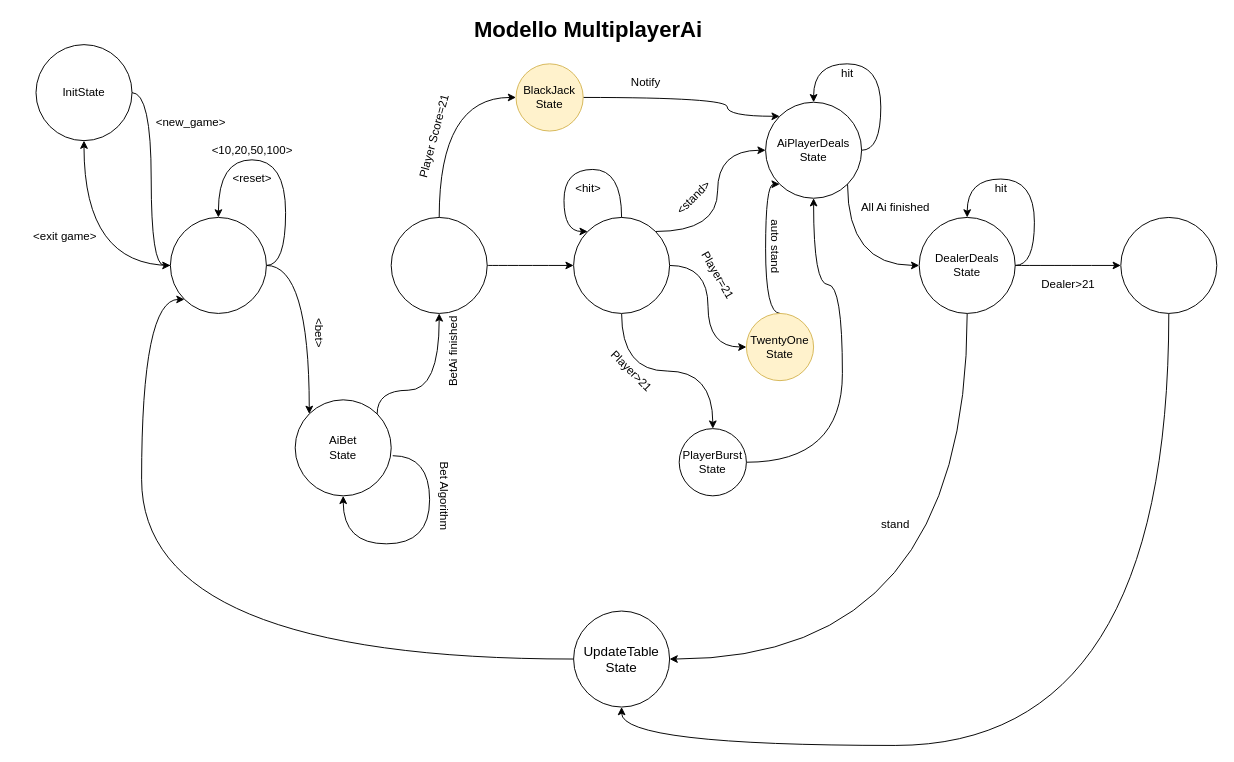
This 1234x762 diagram has some shape labels left out. Each missing label, with the centre of its shape:
"Bet State" goes at pixel 217 264.
"DealerBurst State" goes at pixel 1168 264.
"PlayerDeals State" goes at pixel 621 264.
"SetupTable State" goes at pixel 438 264.
